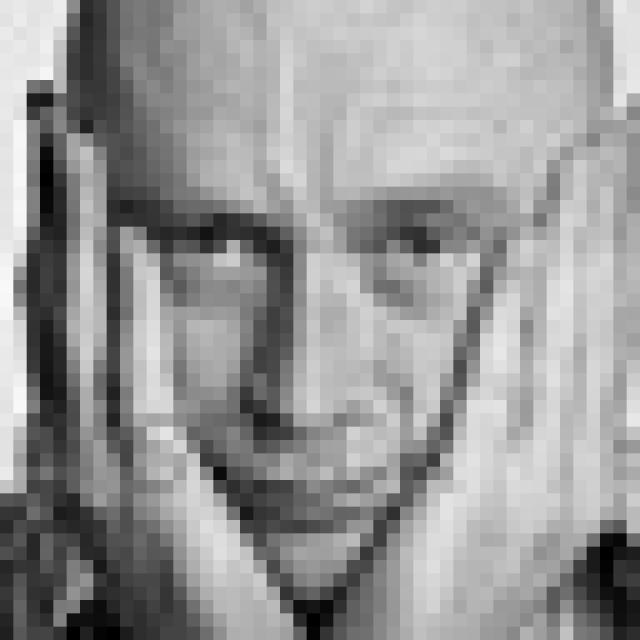fear: (156, 176, 503, 542)
